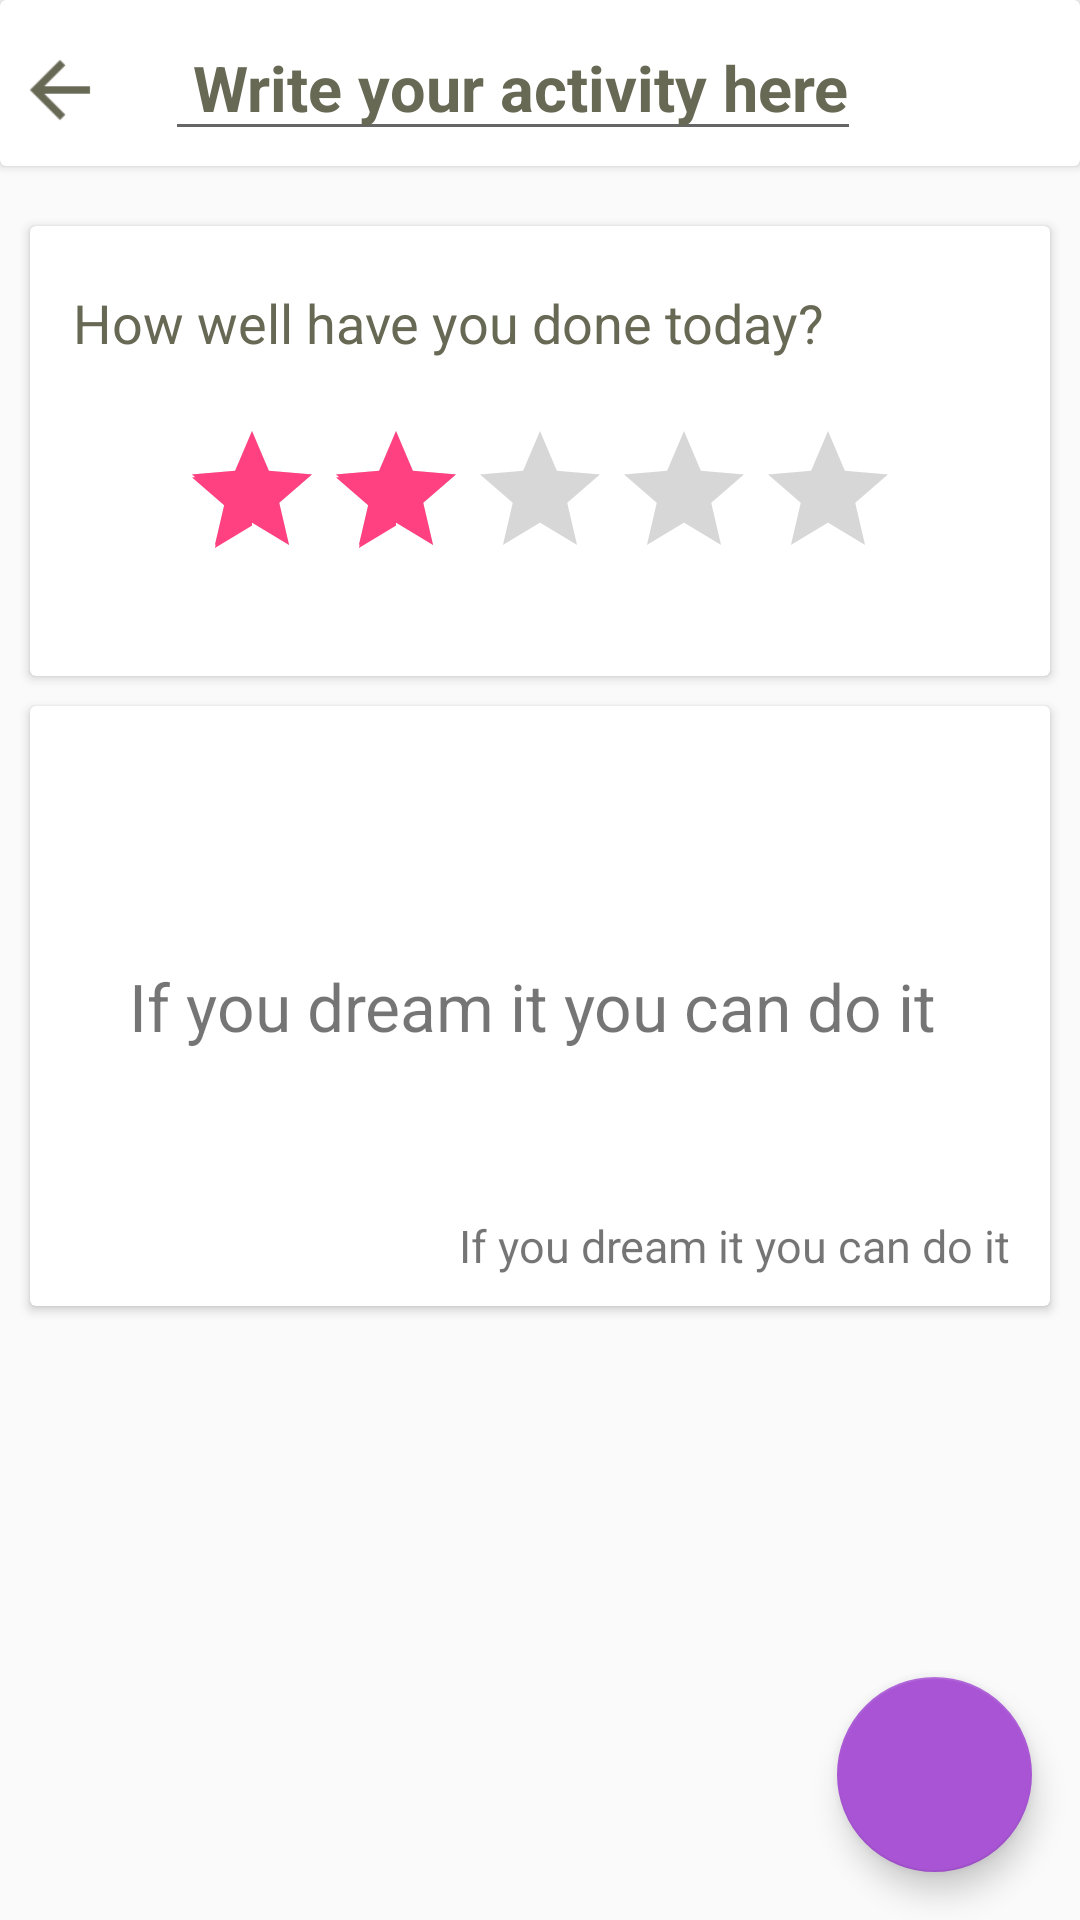

Locate icon controls on the screen. Image size 1080*1920, boxes as (x1, y1, x2, y2).
arrow back: (30, 60, 90, 120)
